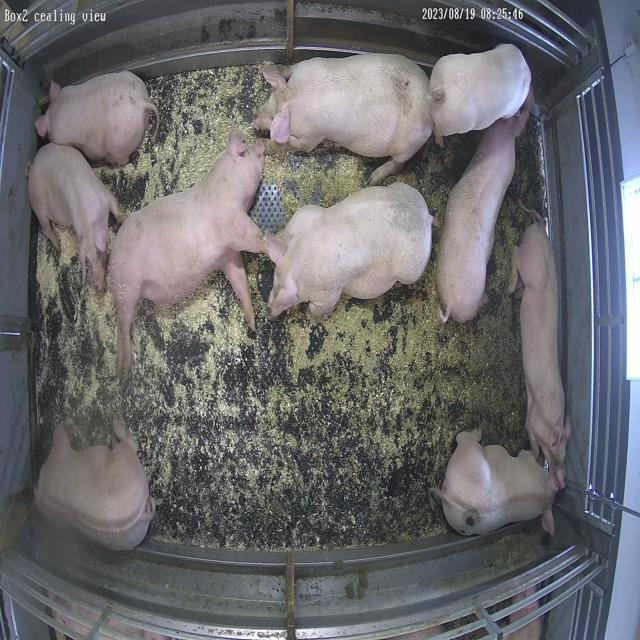Dirt: (454, 116, 548, 449), (383, 132, 480, 252)
Pig: (109, 135, 267, 372), (256, 53, 432, 184), (268, 182, 434, 316), (438, 105, 530, 323), (511, 216, 572, 490), (34, 417, 154, 552), (27, 143, 121, 290), (442, 431, 557, 536), (431, 43, 533, 144)
